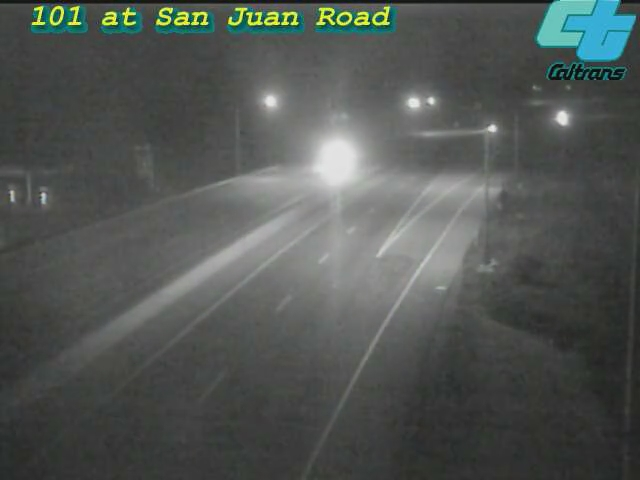vehicle: (313, 134, 363, 184), (466, 105, 516, 155), (535, 94, 585, 144)
